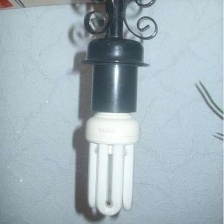light_bulb: (81, 106, 142, 220)
